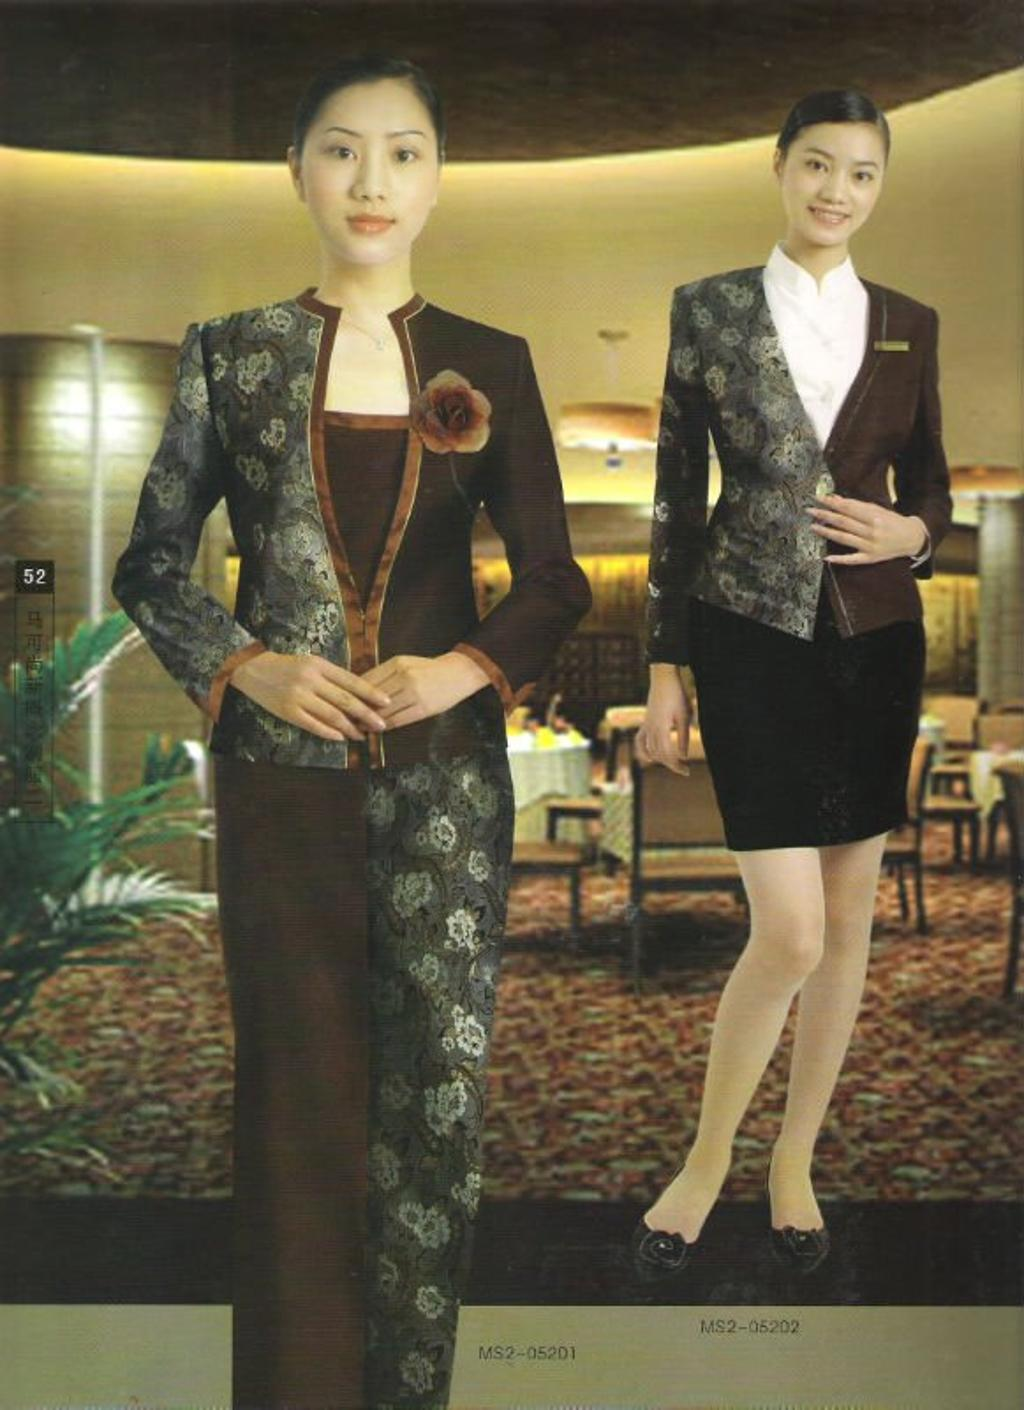face: (303, 83, 438, 262), (779, 124, 881, 245)
